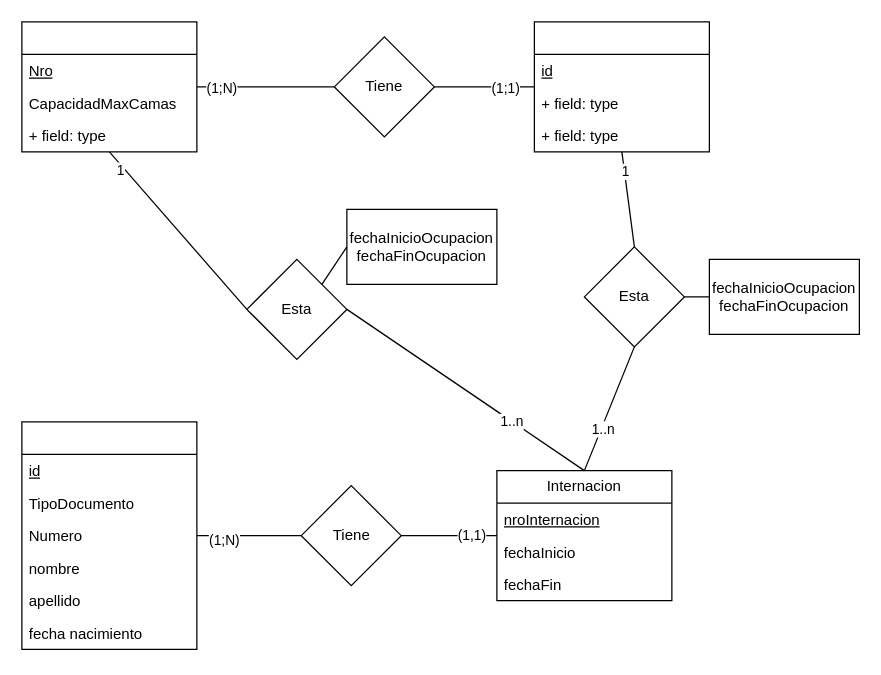
This 881x675 diagram has some shape labels left out. The box of each missing label's shape, as (x1, y1, x2, y2) in pixels:
Cama: (533, 21, 709, 152)
Habitacion: (21, 21, 197, 152)
Paciente: (21, 421, 197, 649)
